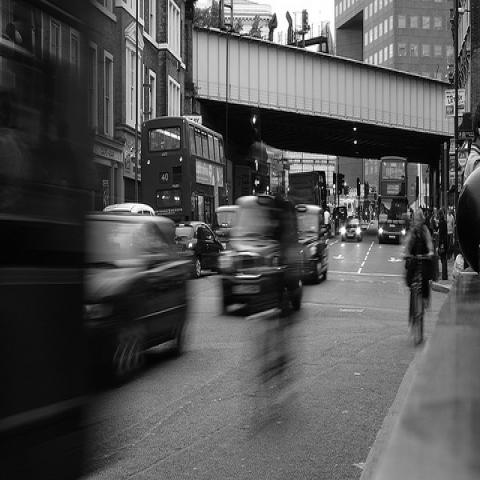bus: (0, 33, 92, 448), (142, 118, 227, 231), (374, 158, 408, 245), (288, 171, 329, 207)
car: (79, 212, 197, 379), (222, 197, 301, 314), (175, 221, 225, 276), (296, 204, 329, 286), (213, 205, 239, 249), (103, 202, 156, 216), (342, 218, 364, 242)
